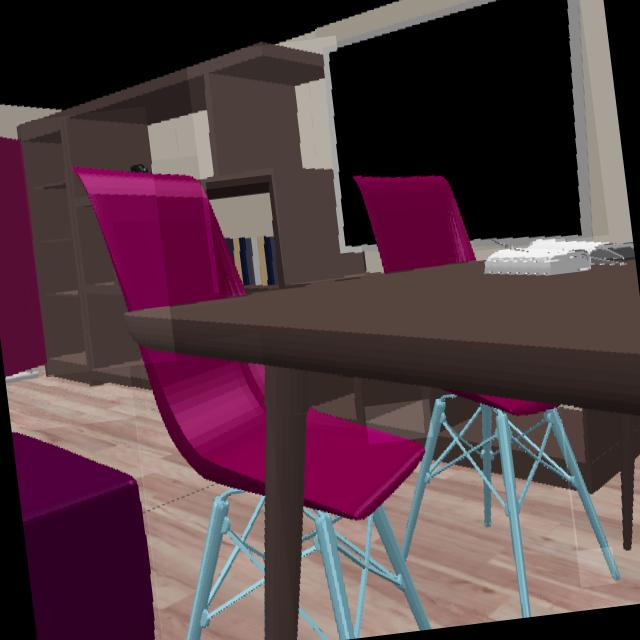book: (206, 176, 284, 290)
bookshelf: (201, 46, 365, 284), (18, 118, 151, 370), (560, 407, 640, 544), (366, 399, 430, 438), (312, 379, 358, 420)
chair: (302, 393, 558, 640), (138, 349, 264, 640), (76, 170, 246, 314), (525, 420, 616, 583), (354, 177, 475, 274)
monitor: (327, 0, 594, 245)
sofa: (11, 433, 156, 640)
table: (123, 261, 640, 640)
